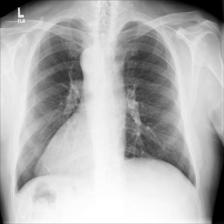normal: (12, 12, 202, 196)
